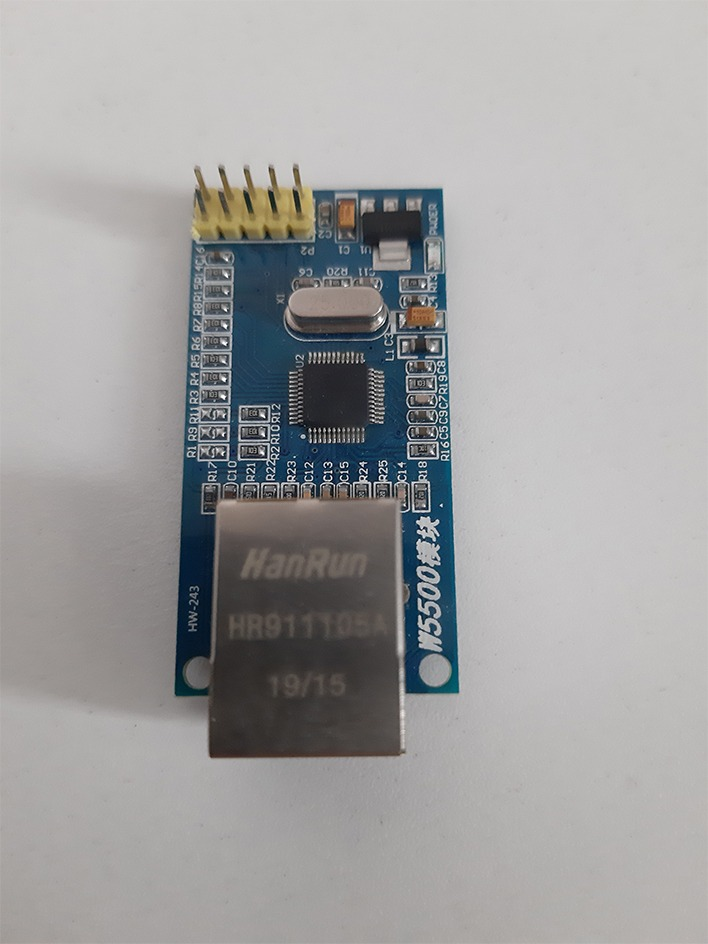Ethernet-W5500: (126, 128, 479, 815)
